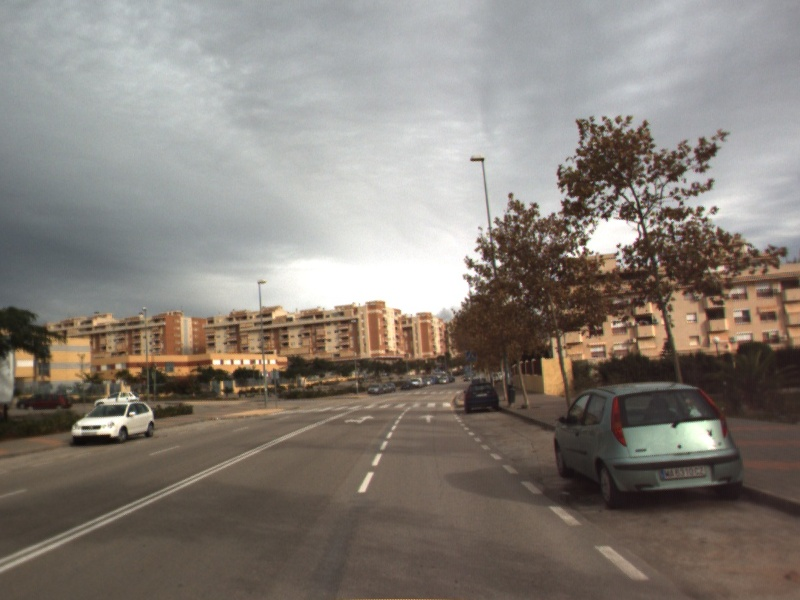STRAIGHT: (417, 412, 438, 424)
STRAIGHT_LEFT: (342, 413, 376, 426)
